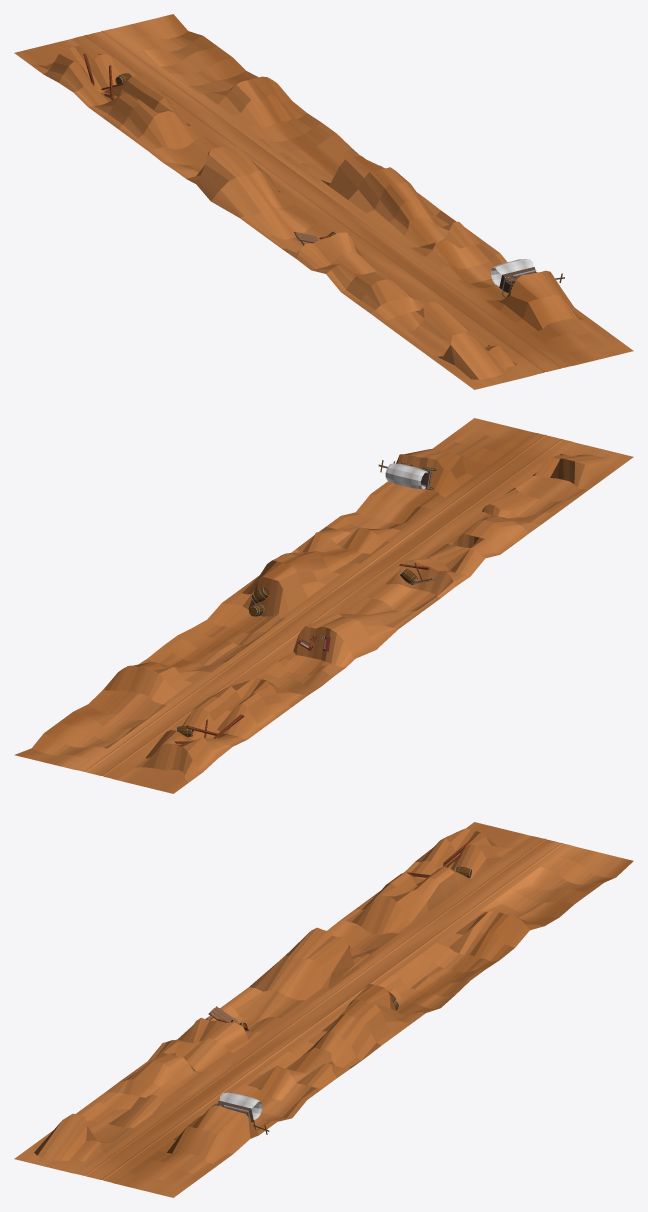
The model's file is ChunkA.fbx.
3 views of the same model, one above another, from view 1: azimuth 30°, elevation 25°; view 2: azimuth 150°, elevation 25°; view 3: azimuth 330°, elevation 25° (orthographic).
Parts seen in each view (by area): view 1: Chunk; view 2: Chunk; view 3: Chunk.
Part boxes in pixels (x1,y1,x2,y2): Chunk: (14, 14, 633, 389); Chunk: (14, 418, 633, 793); Chunk: (14, 822, 633, 1197).
Size of the model in its own units: 4411 by 925 by 20000.
7 materials, 3 textured.
